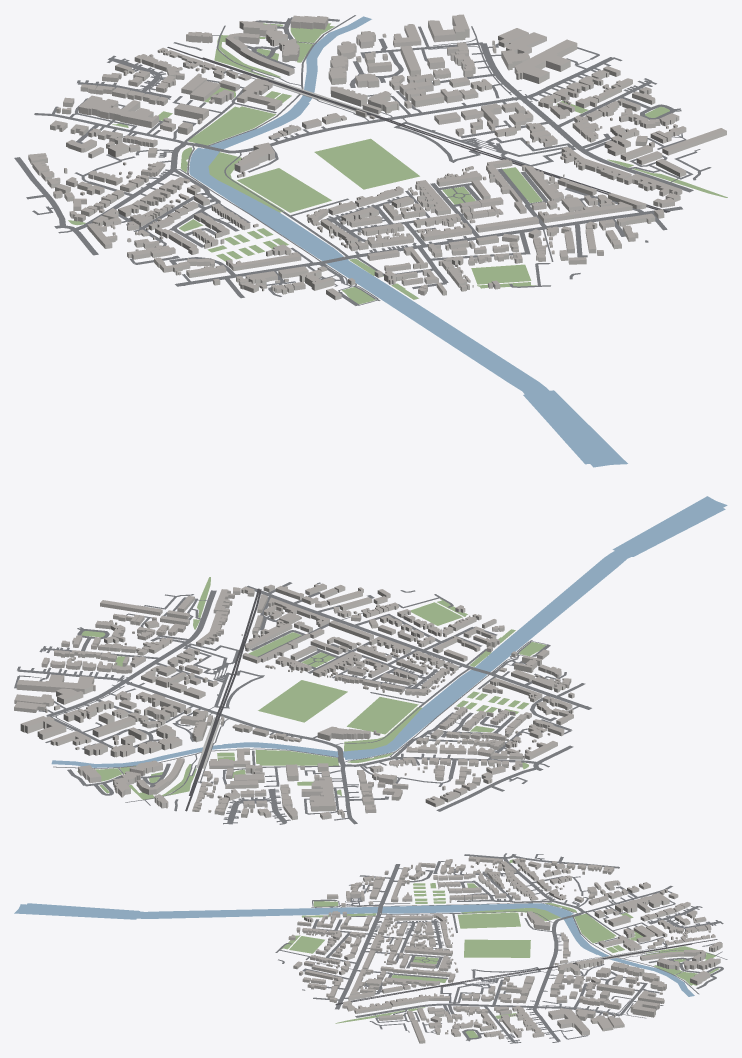
Rendered from context.glb.
3 views of the same model, one above another, from view 1: azimuth 30°, elevation 25°; view 2: azimuth 150°, elevation 25°; view 3: azimuth 270°, elevation 25° (orthographic). The views are drawn at different scales.
Parts seen in each view (by area): view 1: context_buildings, context_roads, context_green, context_water, context_buildings_ns, context_rail; view 2: context_buildings, context_roads, context_green, context_water, context_buildings_ns, context_rail; view 3: context_buildings, context_roads, context_green, context_water, context_buildings_ns, context_rail.
Boxes of the visible parts, x1,y1,x2,y2 form: context_buildings: (28, 14, 726, 300); context_roads: (14, 15, 711, 305); context_green: (68, 23, 727, 304); context_water: (189, 16, 627, 467); context_buildings_ns: (268, 86, 503, 234); context_rail: (167, 47, 669, 212); context_buildings: (14, 583, 574, 820); context_roads: (14, 582, 591, 824); context_green: (77, 577, 545, 799); context_water: (51, 496, 727, 767); context_buildings_ns: (192, 636, 414, 742); context_rail: (185, 588, 261, 811); context_buildings: (288, 856, 722, 1043); context_roads: (275, 853, 727, 1043); context_green: (281, 859, 719, 1038); context_water: (14, 903, 694, 996); context_buildings_ns: (386, 926, 603, 968); context_rail: (335, 939, 717, 1005).
Size of the model in its own units: 891 by 12 by 1411.
